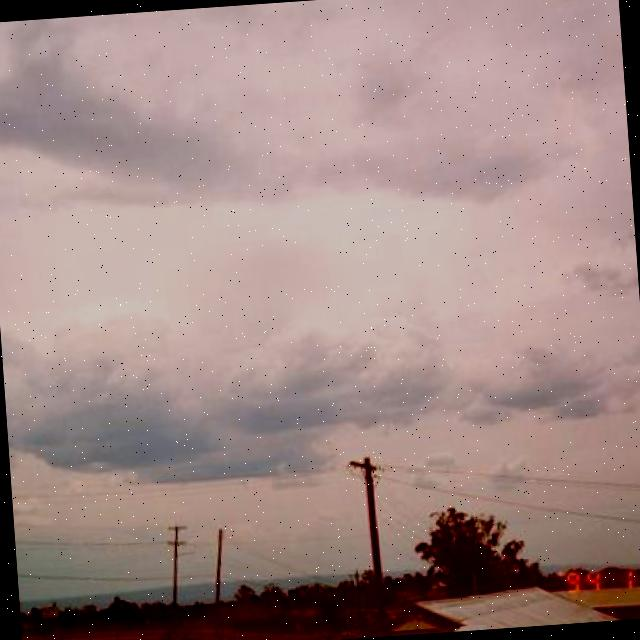Cs: (1, 1, 640, 489)
